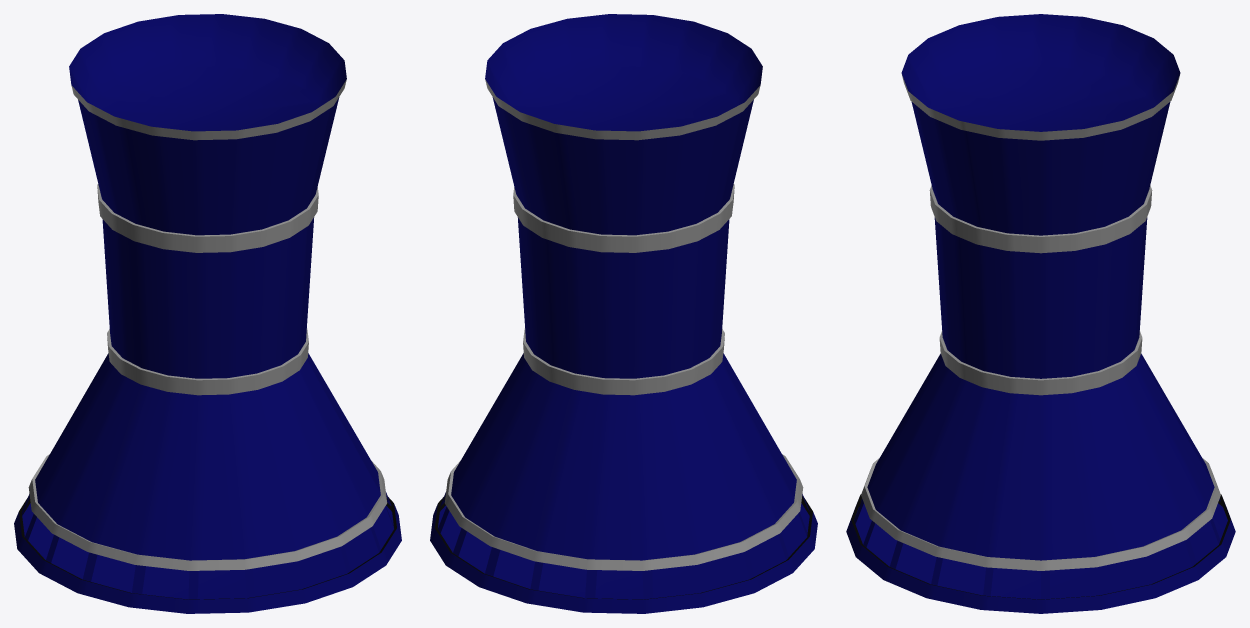
File: Blue Radio Active.fbx
3 renders of one model, left to right at view 1: azimuth 30°, elevation 25°; view 2: azimuth 150°, elevation 25°; view 3: azimuth 270°, elevation 25°, orthographic.
Visible parts, largest first — view 1: pasted__pCylinder1; view 2: pasted__pCylinder1; view 3: pasted__pCylinder1.
Part boxes in pixels (box(x1,y1,x2,y2)): pasted__pCylinder1: box(14, 14, 401, 613); pasted__pCylinder1: box(430, 14, 817, 613); pasted__pCylinder1: box(846, 14, 1235, 613).
Size of the model in its own units: 25.63 by 33.36 by 25.63.
